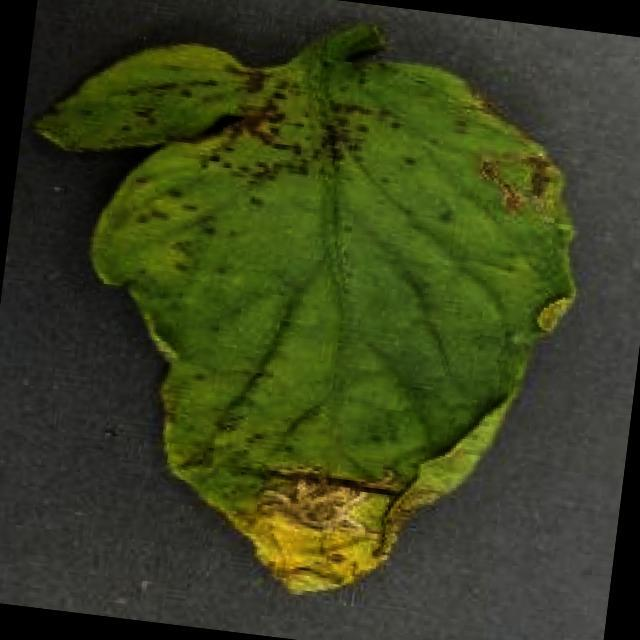Tomato bacterial spot leaf: (0, 0, 615, 636)
